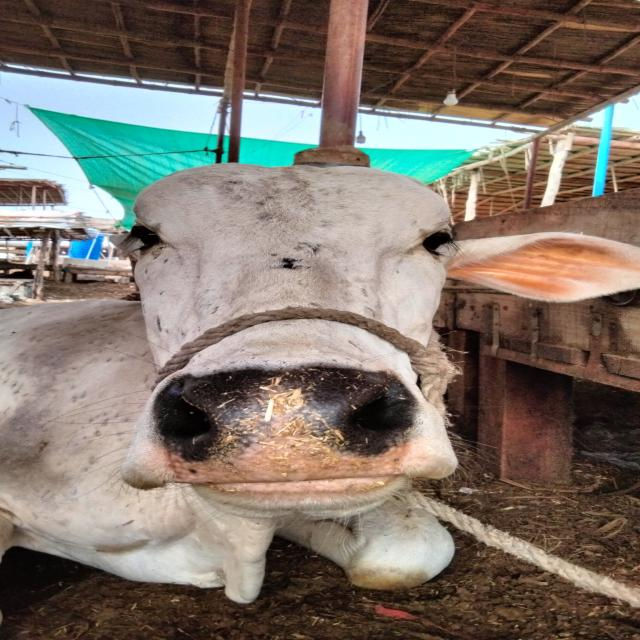muzzles: (138, 360, 440, 506)
